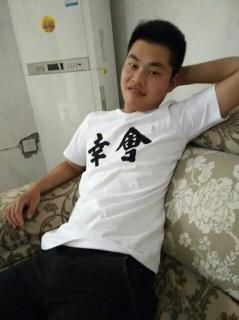short sleeve top: (41, 82, 231, 272)
trousers: (0, 237, 161, 319)
